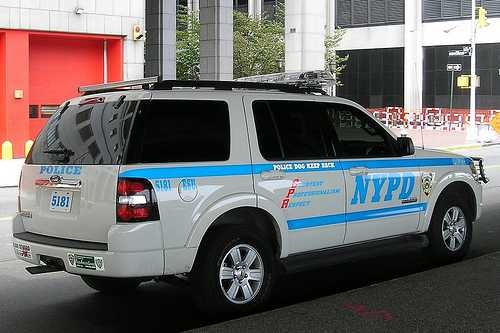Police Car: (17, 84, 470, 332)
